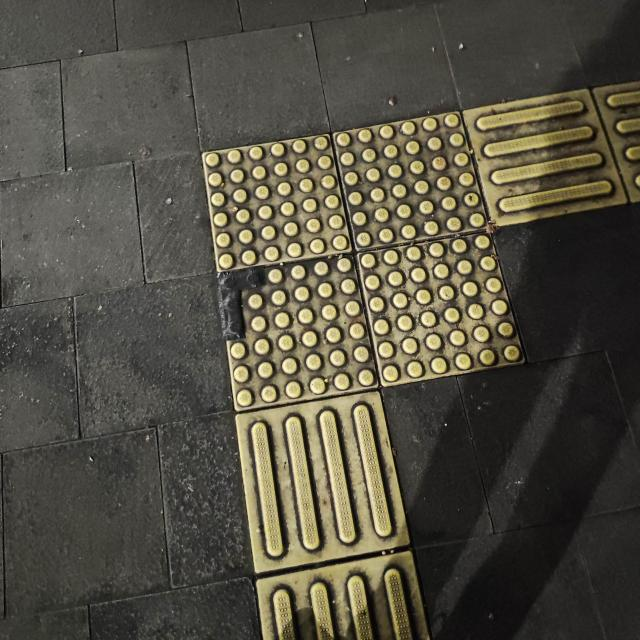kanan: (127, 74, 640, 484)
